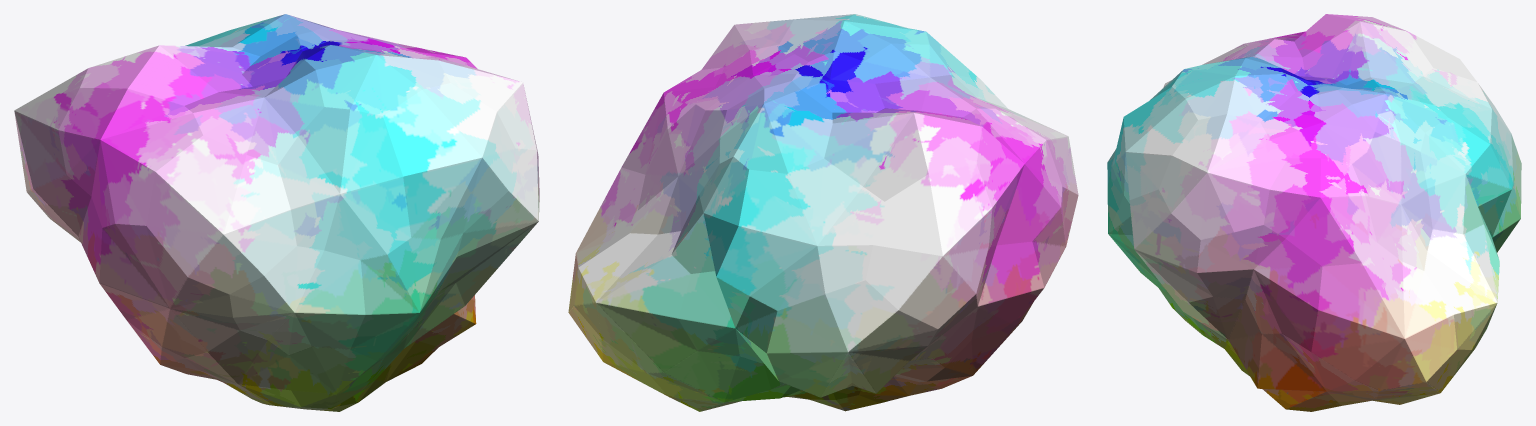
File: RainbowRock5.glb
3 views of the same model, side by side, from view 1: azimuth 30°, elevation 25°; view 2: azimuth 150°, elevation 25°; view 3: azimuth 270°, elevation 25° (orthographic). The views are drawn at different scales.
Parts seen in each view (by area): view 1: RainbowRock5; view 2: RainbowRock5; view 3: RainbowRock5.
Part boxes in pixels (<box>): RainbowRock5: <box>14,14,539,411</box>; RainbowRock5: <box>568,14,1078,411</box>; RainbowRock5: <box>1107,14,1521,411</box>.
Size of the model in its own units: 4.34 by 3.59 by 4.22.
Materials: 1 (1 with a texture image).
